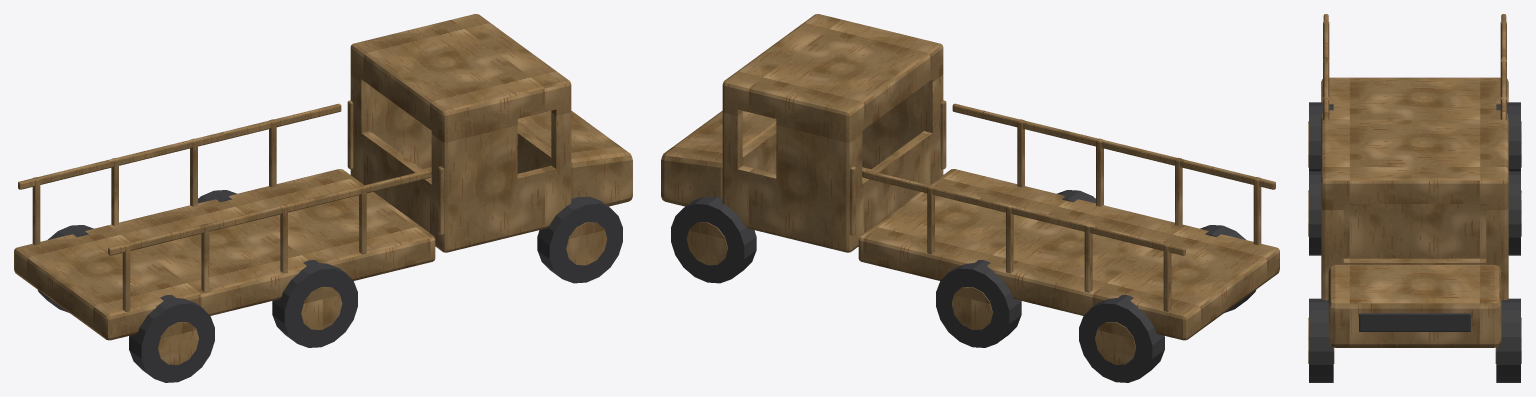
The model's file is truck.glb.
The picture shows the model from 3 angles, left to right: view 1: azimuth 30°, elevation 25°; view 2: azimuth 150°, elevation 25°; view 3: azimuth 270°, elevation 25°; orthographic projection.
Parts seen in each view (by area): view 1: truck; view 2: truck; view 3: truck.
Part boxes in pixels (x1,y1,x2,y2): truck: (14, 14, 632, 382); truck: (661, 14, 1279, 382); truck: (1308, 14, 1521, 382).
Bounding box in the file's own units: 7.44 × 2.65 × 2.62.
2 materials, 1 textured.
